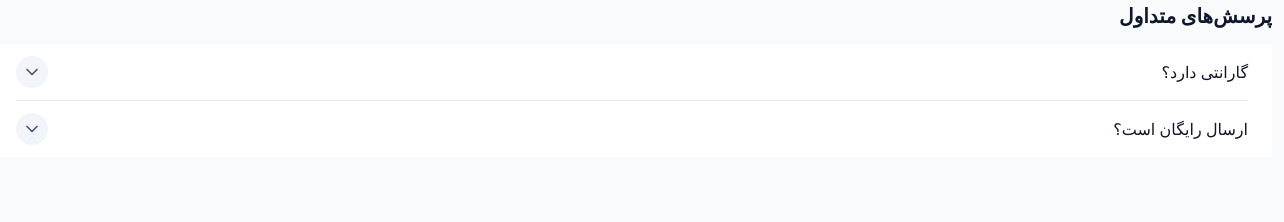
AdminFaq › lists each question as a native disclosure, every answer in the page while closed
The image size is (1284, 222).
Expected: the headings read "گارانتی دارد؟", "ارسال رایگان است؟", in this order, [1162,60,1248,84]; [1113,117,1248,141]
Click the heading "ارسال رایگان است؟": [1181, 129] box [16,113,1248,145]
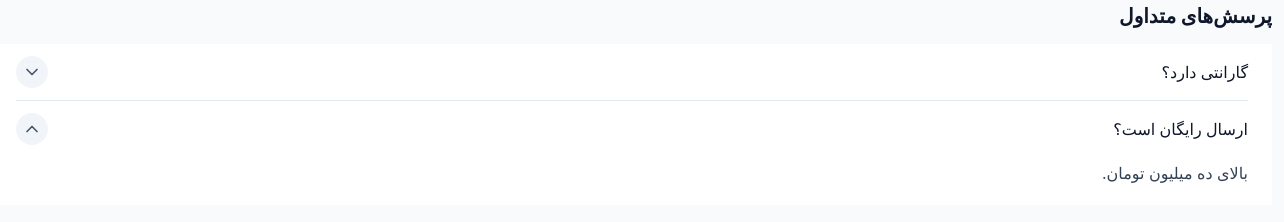
Result: the text "بالای ده میلیون تومان." has attribute open at [16,101,1248,205]
